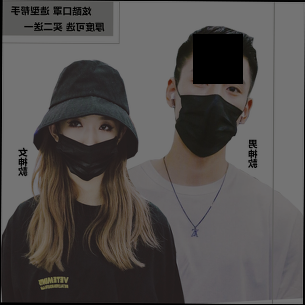with_mask: (172, 67, 250, 157), (56, 115, 119, 182)
